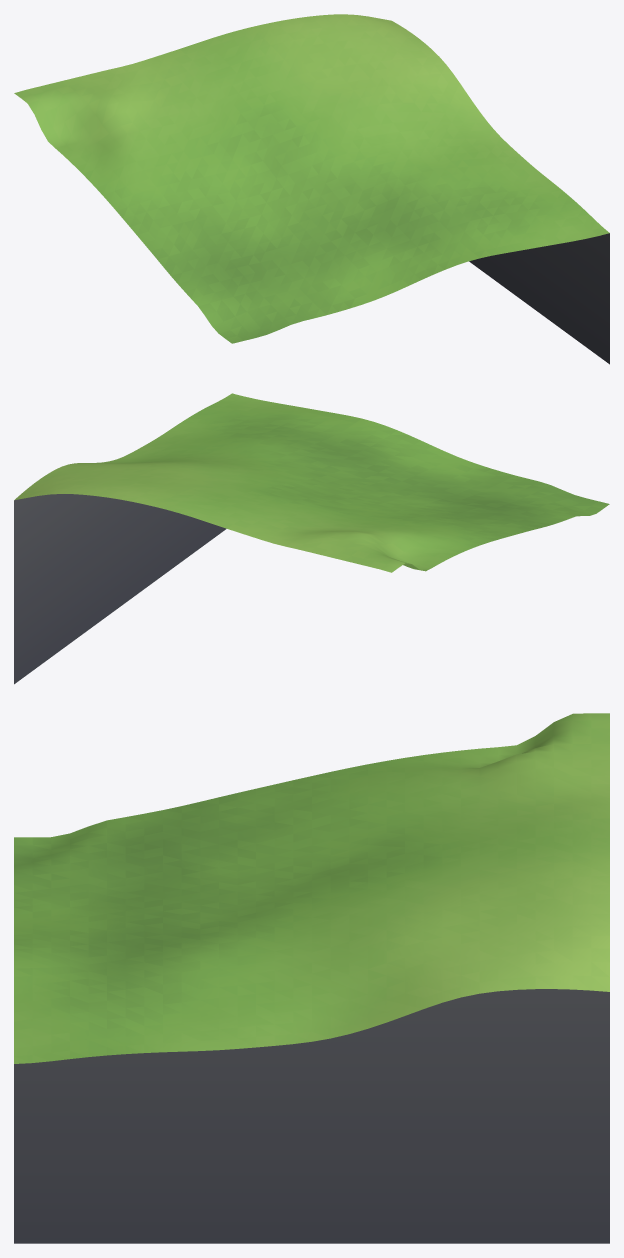
Rendered from terrain_r3_c5.glb.
3 views of the same model, one above another, from view 1: azimuth 30°, elevation 25°; view 2: azimuth 150°, elevation 25°; view 3: azimuth 270°, elevation 25° (orthographic). The views are drawn at different scales.
Visible parts, largest first — view 1: terrain_r3_c5; view 2: terrain_r3_c5; view 3: terrain_r3_c5.
Part boxes in pixels (box(x1,y1,x2,y2)): terrain_r3_c5: box(14, 14, 609, 364); terrain_r3_c5: box(14, 393, 609, 684); terrain_r3_c5: box(14, 713, 609, 1243).
Size of the model in its own units: 128 by 68.68 by 128.
Materials: 1 (1 with a texture image).
